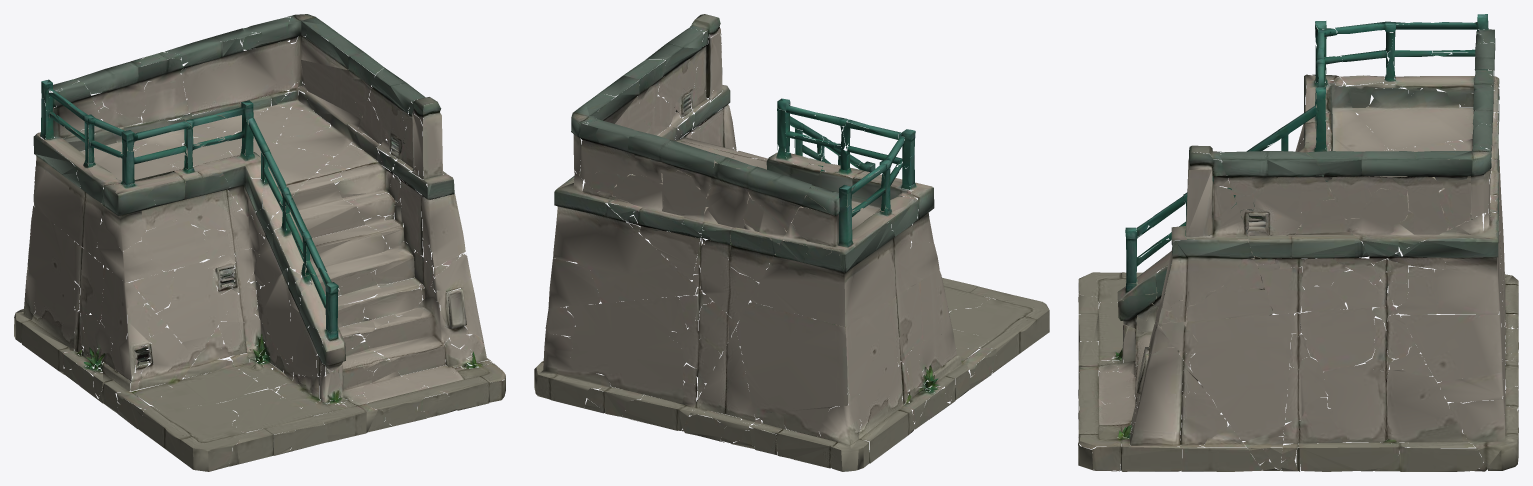
File: stairs1.glb
The picture shows the model from 3 angles, left to right: view 1: azimuth 30°, elevation 25°; view 2: azimuth 150°, elevation 25°; view 3: azimuth 270°, elevation 25°; orthographic projection. The views are drawn at different scales.
Visible parts, largest first — view 1: tripo_node_bdfb6e23-e08f-4399-8c58-bb4392983b2d; view 2: tripo_node_bdfb6e23-e08f-4399-8c58-bb4392983b2d; view 3: tripo_node_bdfb6e23-e08f-4399-8c58-bb4392983b2d.
Boxes of the visible parts, <box> form: tripo_node_bdfb6e23-e08f-4399-8c58-bb4392983b2d: <box>14,14,505,471</box>; tripo_node_bdfb6e23-e08f-4399-8c58-bb4392983b2d: <box>534,14,1049,471</box>; tripo_node_bdfb6e23-e08f-4399-8c58-bb4392983b2d: <box>1078,14,1518,471</box>.
Bounding box in the file's own units: 0.9246 × 0.7534 × 0.979.
1 material, 1 textured.
